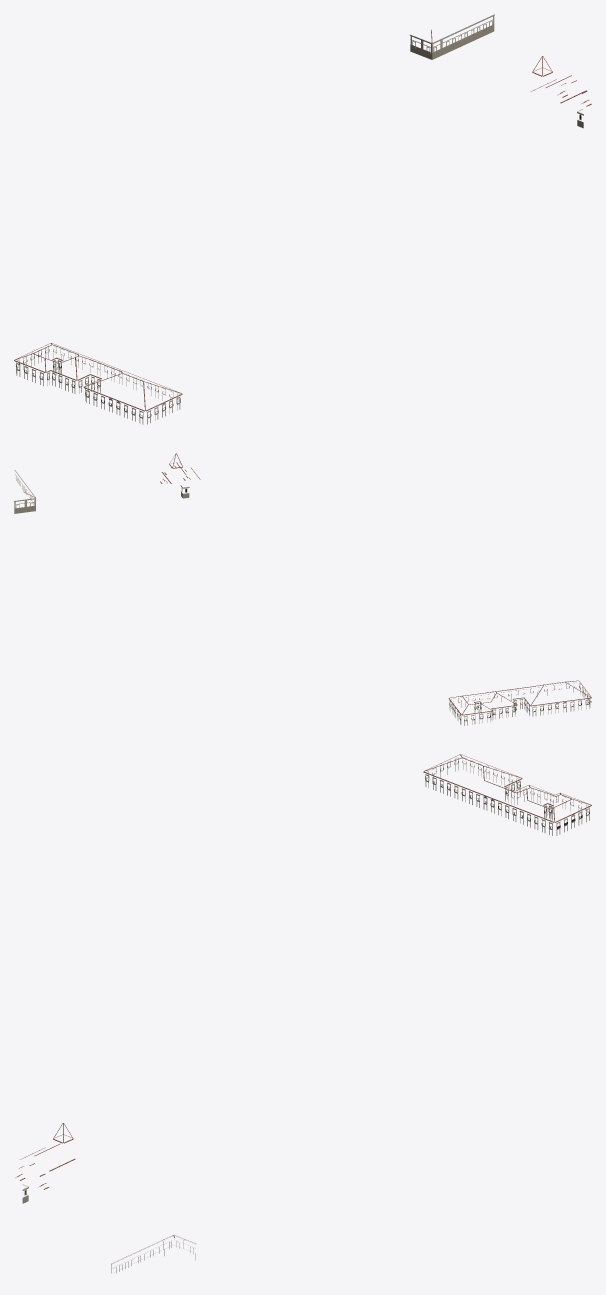
3 views of the same model, one above another, from view 1: azimuth 90°, elevation 25°; view 2: azimuth 150°, elevation 25°; view 3: azimuth 270°, elevation 25° (orthographic). The views are drawn at different scales.
Parts seen in each view (by area): view 1: detail; view 2: detail; view 3: detail.
Boxes of the visible parts, x1,y1,x2,y2 form: detail: (14,14,591,424); detail: (14,453,591,725); detail: (15,754,591,1273).
Bounding box in the file's own units: 413 × 39.96 × 222.
